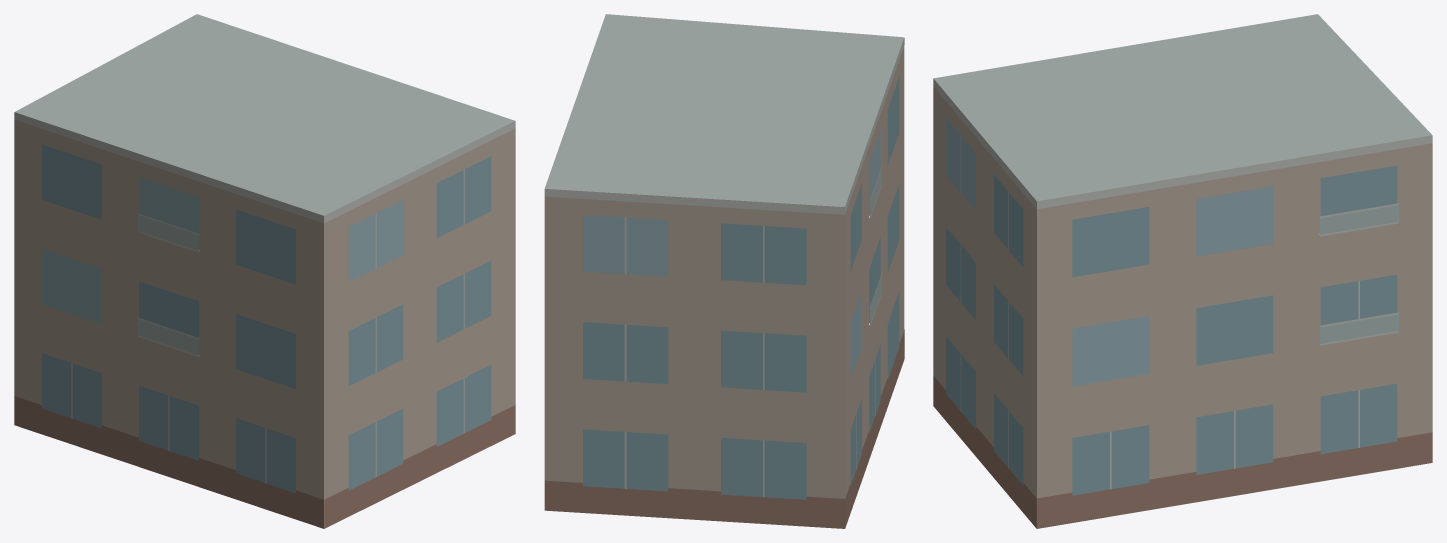
The model's file is survey-upis-32800143.glb.
The picture shows the model from 3 angles, left to right: view 1: azimuth 30°, elevation 25°; view 2: azimuth 150°, elevation 25°; view 3: azimuth 270°, elevation 25°; orthographic projection. The views are drawn at different scales.
Visible parts, largest first — view 1: survey-upis-32800143.tmp; view 2: survey-upis-32800143.tmp; view 3: survey-upis-32800143.tmp.
Part boxes in pixels (<box>): survey-upis-32800143.tmp: <box>14,14,515,528</box>; survey-upis-32800143.tmp: <box>544,14,904,528</box>; survey-upis-32800143.tmp: <box>933,14,1432,528</box>.
Bounding box in the file's own units: 12.4 × 10.1 × 13.97.
